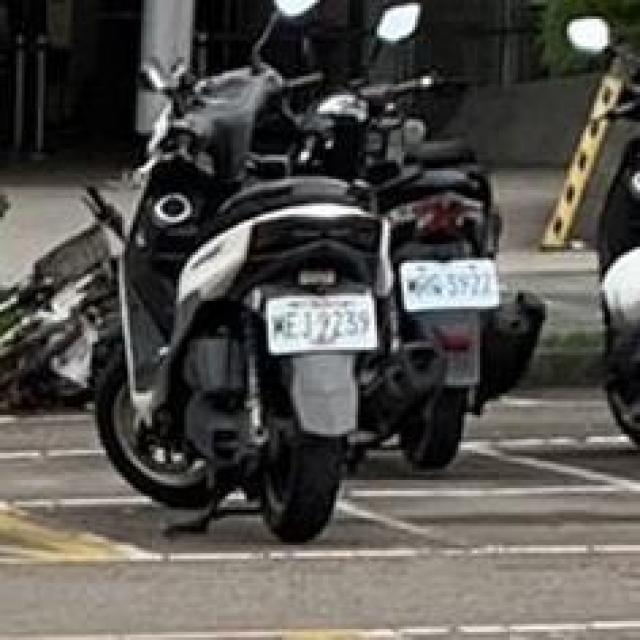W: (260, 289, 380, 356), (396, 258, 505, 312)
